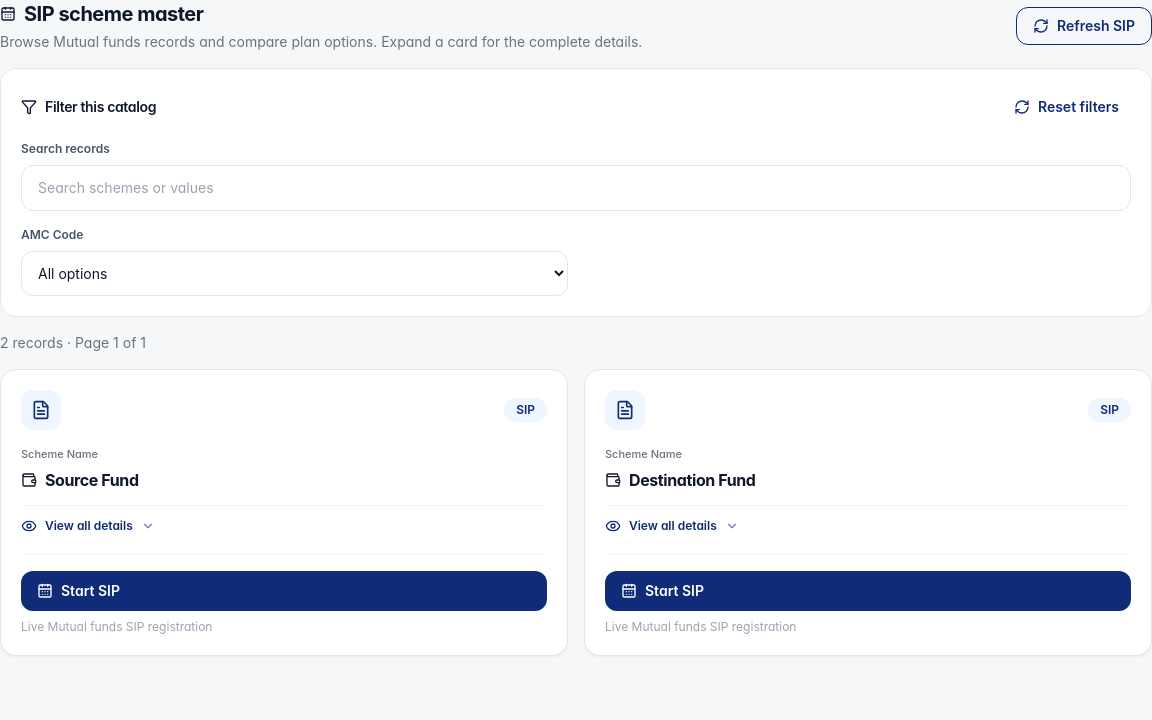
Test case: Mutual funds selected master preview › opens the correct plan form from a SIP card
This screenshot has width=1152, height=720.
Click the button "Start SIP" below "Source Fund". click: (90, 590)
box: x1=21 y1=570 x2=547 y2=610
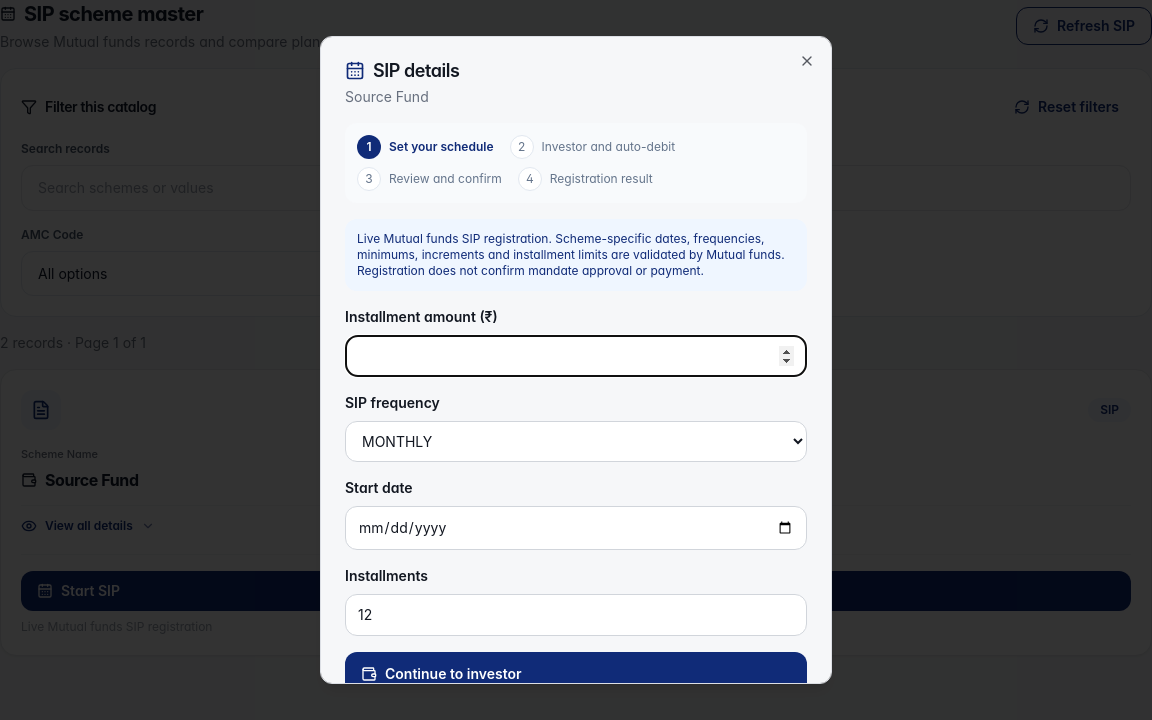
Check: the dialog is shown, box x1=320 y1=36 x2=832 y2=684
Check: the heading "SIP details" is shown, box x1=345 y1=60 x2=460 y2=81
